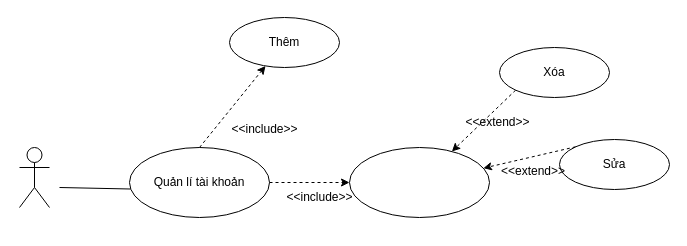
This 687x246 diagram has some shape labels left out. The centre of each missing label's shape, as x and y in pixels:
"Admin" belongs at point (34, 177).
"Xem Danh sách" belongs at point (419, 182).
